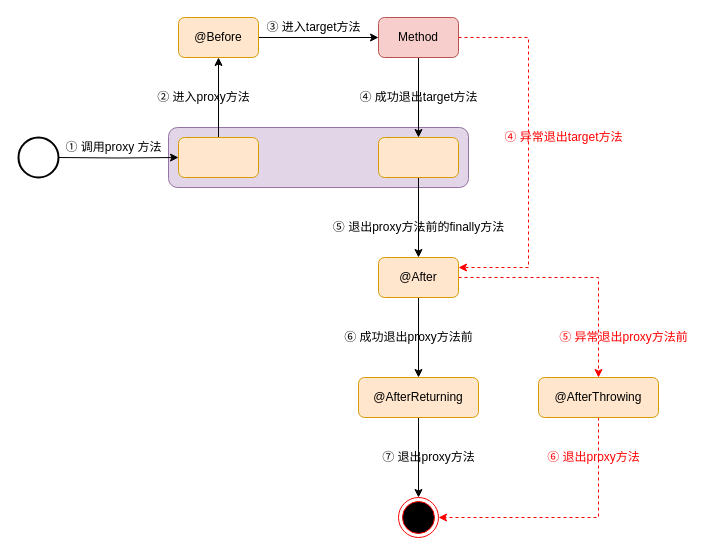
Image size: 710x555. Some labels were removed from this diagram. Here are the shapes that lost their labels. From the top down, the centre of each, then its label:
At point 218,157: "@Around In".
At point 418,157: "@Around Out".
